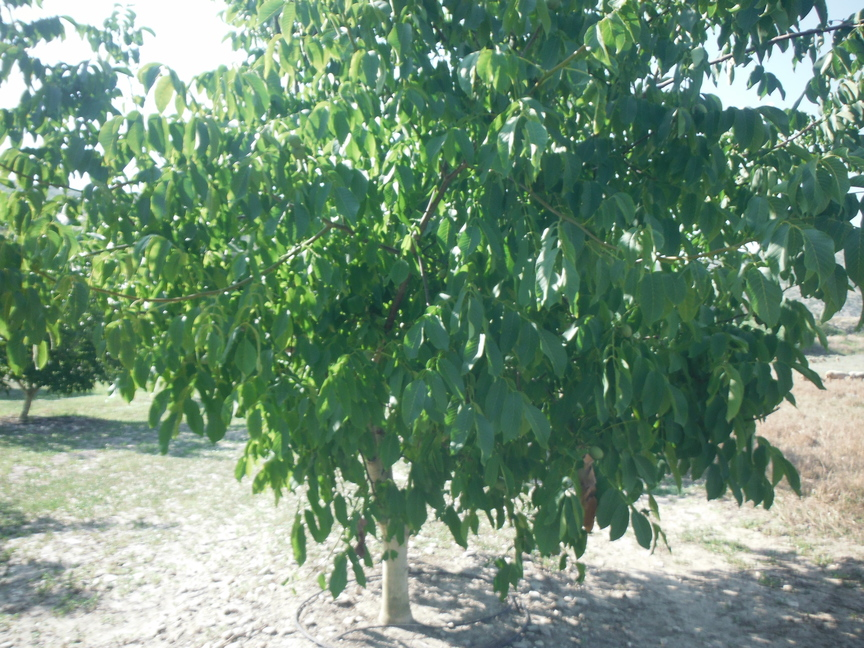walnut: (690, 100, 711, 125), (587, 444, 607, 461), (620, 320, 636, 339), (605, 307, 616, 322)
